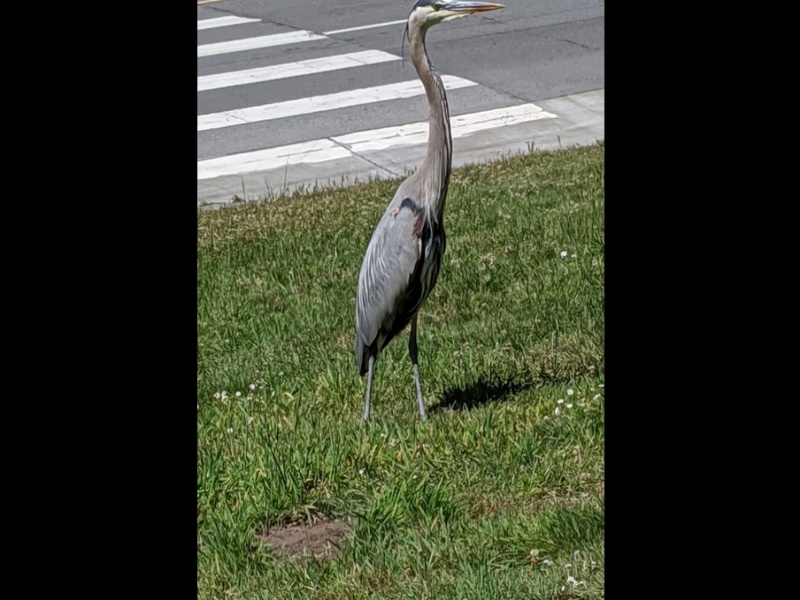heron: (355, 1, 507, 428)
